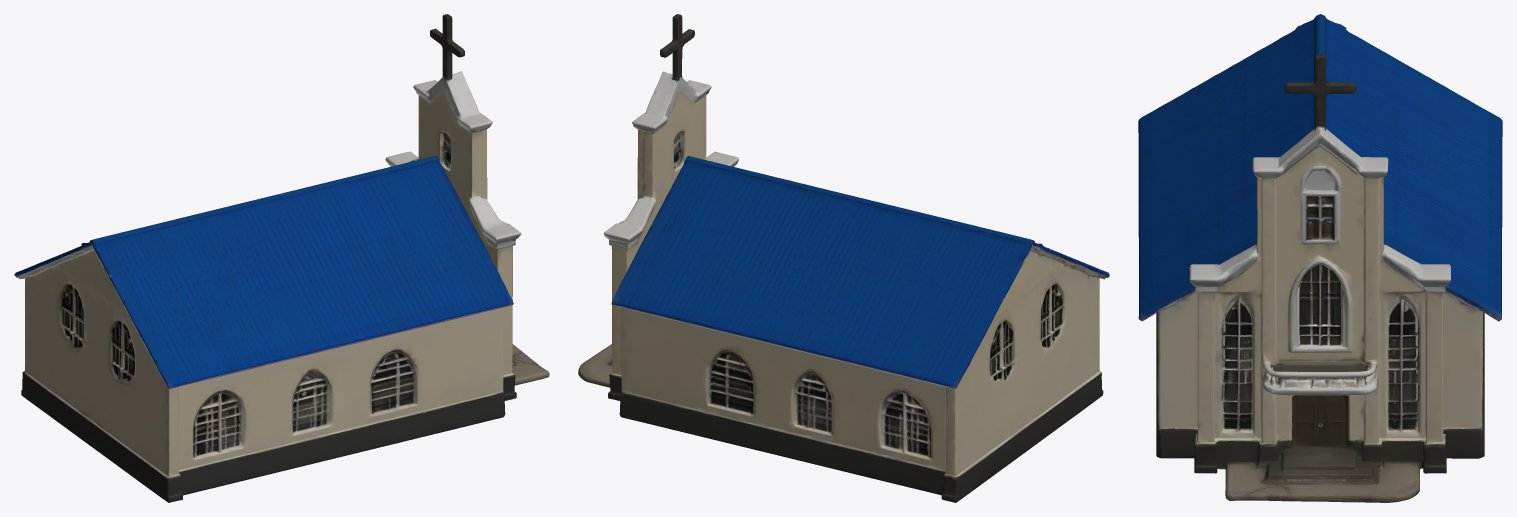
File: church.glb
3 views of the same model, side by side, from view 1: azimuth 30°, elevation 25°; view 2: azimuth 150°, elevation 25°; view 3: azimuth 270°, elevation 25° (orthographic). The views are drawn at different scales.
Visible parts, largest first — view 1: tripo_node_f550b1b8-5b09-445e-9e50-7ab9eb49b2d0; view 2: tripo_node_f550b1b8-5b09-445e-9e50-7ab9eb49b2d0; view 3: tripo_node_f550b1b8-5b09-445e-9e50-7ab9eb49b2d0.
Part boxes in pixels (x1,y1,x2,y2): tripo_node_f550b1b8-5b09-445e-9e50-7ab9eb49b2d0: (14,14,549,502); tripo_node_f550b1b8-5b09-445e-9e50-7ab9eb49b2d0: (578,14,1109,502); tripo_node_f550b1b8-5b09-445e-9e50-7ab9eb49b2d0: (1138,14,1502,502).
Size of the model in its own units: 24 by 18.84 by 15.19.
Materials: 1 (1 with a texture image).
